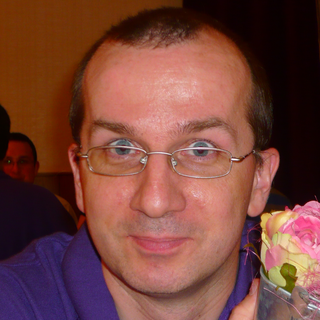eye: (177, 140, 223, 164), (102, 139, 144, 164)
